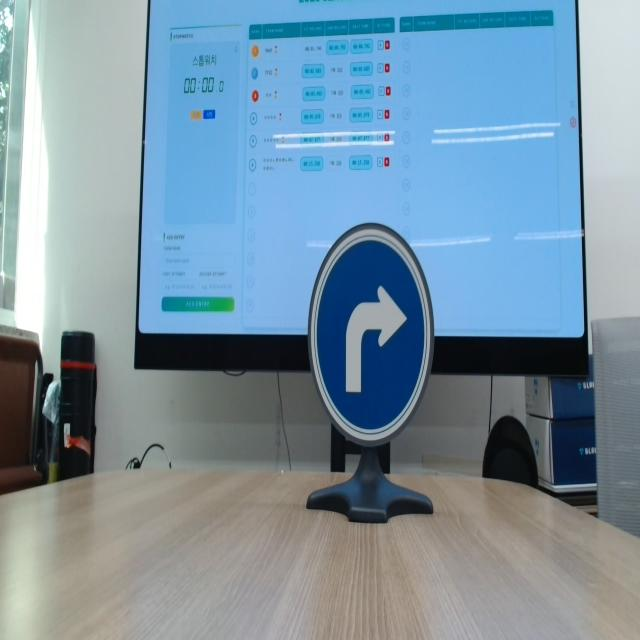right_dierection: (304, 217, 434, 445)
